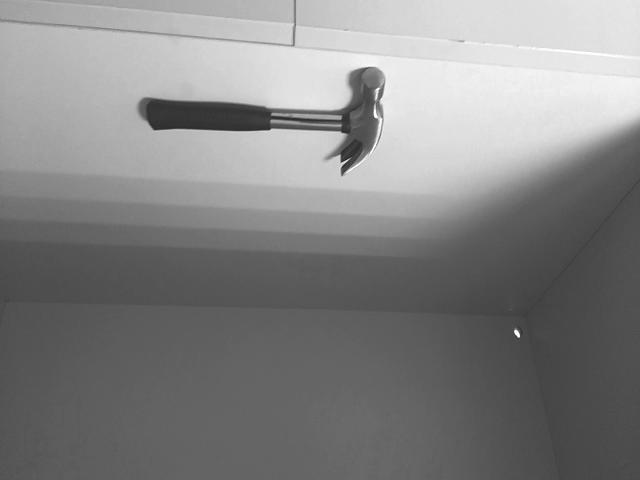Hammer: (146, 68, 385, 175)
